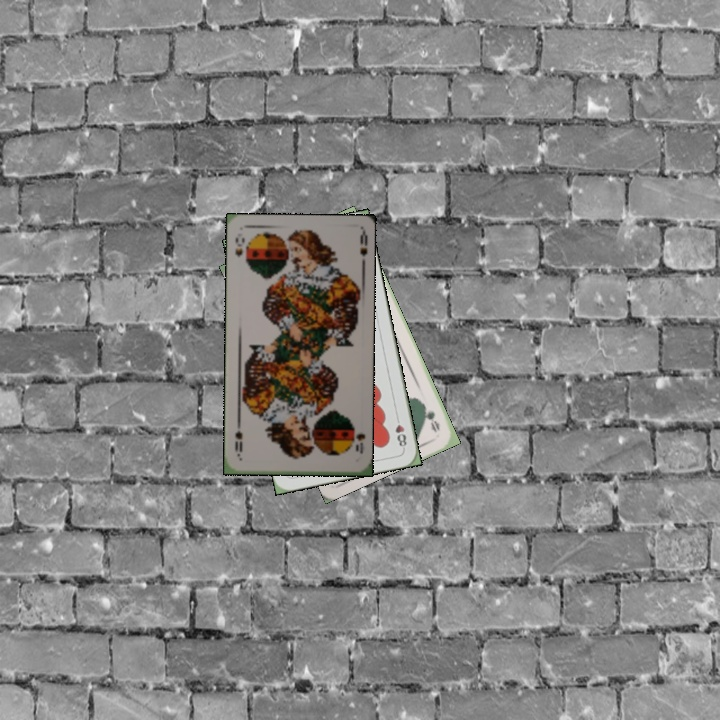GO: (417, 398, 443, 435)
H8: (391, 411, 409, 451)
SO: (231, 233, 247, 259), (352, 430, 367, 456)
